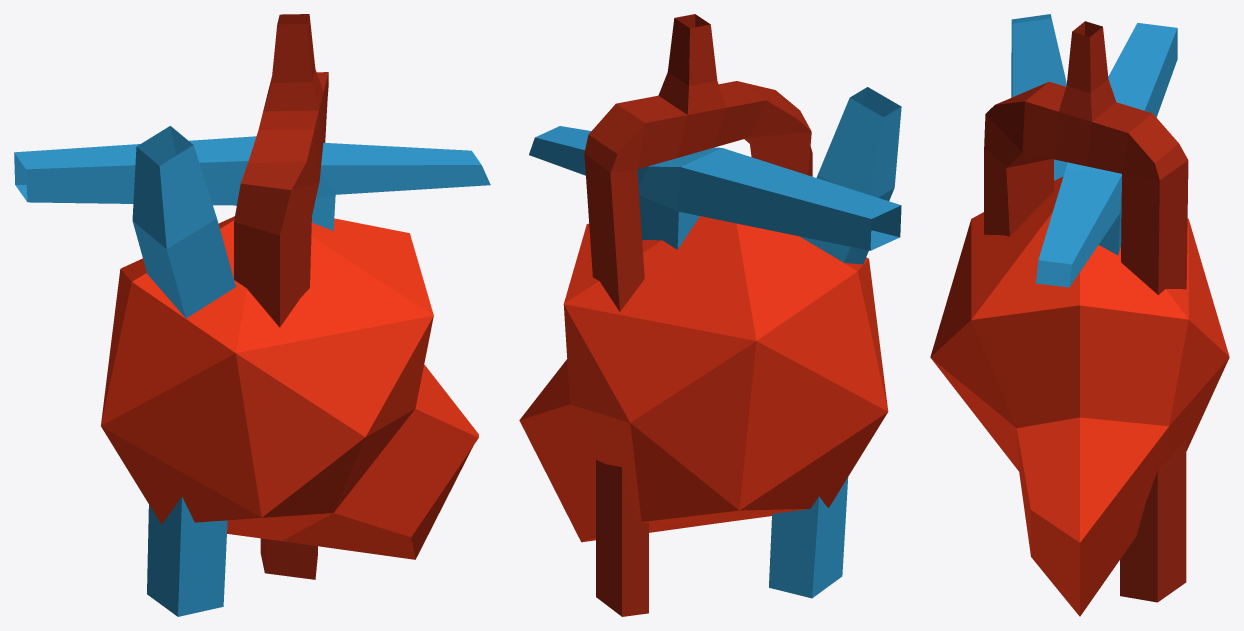
File: Heart.fbx
The picture shows the model from 3 angles, left to right: view 1: azimuth 30°, elevation 25°; view 2: azimuth 150°, elevation 25°; view 3: azimuth 270°, elevation 25°; orthographic projection. The views are drawn at different scales.
Parts seen in each view (by area): view 1: Cube, Cube.003, Cube.001, Cube.002; view 2: Cube, Cube.003, Cube.002, Cube.001; view 3: Cube, Cube.003, Cube.002, Cube.001.
Part boxes in pixels (x1=…): Cube: x1=101, y1=216, x2=478, y2=559; Cube.003: x1=234, y1=14, x2=328, y2=579; Cube.001: x1=132, y1=126, x2=235, y2=616; Cube.002: x1=14, y1=136, x2=490, y2=230; Cube: x1=519, y1=216, x2=888, y2=542; Cube.003: x1=584, y1=14, x2=812, y2=616; Cube.002: x1=529, y1=126, x2=901, y2=250; Cube.001: x1=769, y1=87, x2=901, y2=598; Cube: x1=930, y1=176, x2=1229, y2=616; Cube.003: x1=984, y1=21, x2=1188, y2=602; Cube.002: x1=1035, y1=23, x2=1177, y2=287; Cube.001: x1=1011, y1=14, x2=1067, y2=180.
Size of the model in its own units: 79.32 by 105 by 51.68.
Materials: 4 (4 with a texture image).
